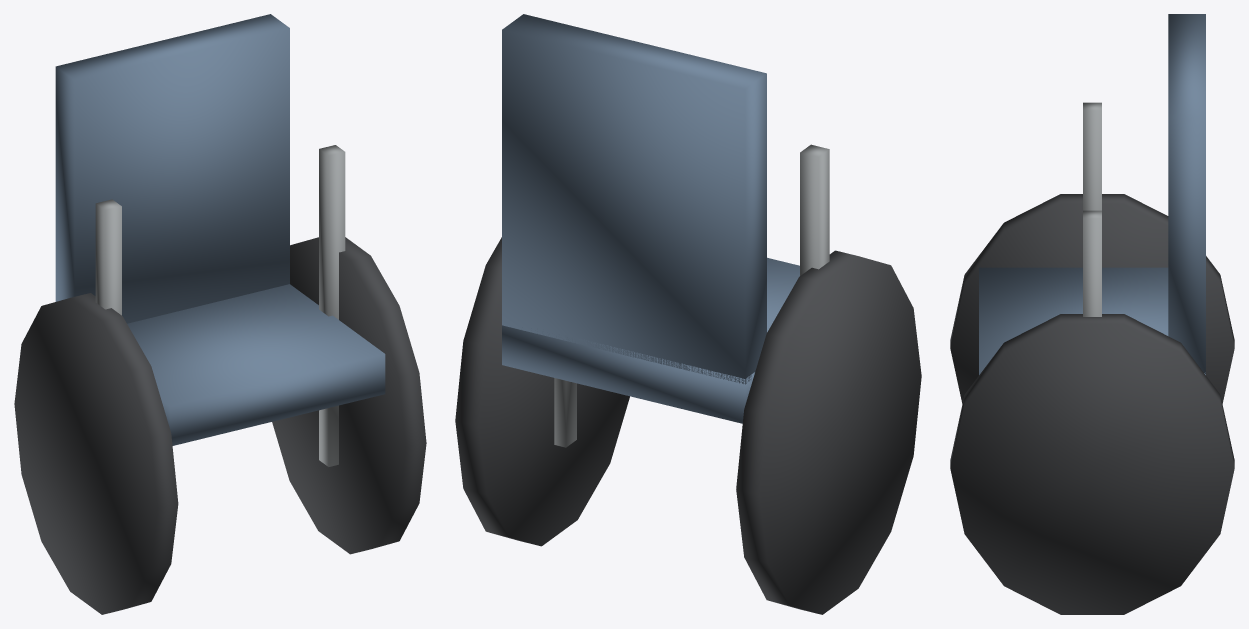
The model's file is wheelchair__tall.glb.
3 renders of one model, left to right at view 1: azimuth 30°, elevation 25°; view 2: azimuth 150°, elevation 25°; view 3: azimuth 270°, elevation 25°, orthographic. The views are drawn at different scales.
Visible parts, largest first — view 1: world; view 2: world; view 3: world.
Part boxes in pixels (bbox=[...]): world: bbox=[14, 14, 426, 614]; world: bbox=[455, 14, 921, 614]; world: bbox=[950, 14, 1234, 614].
Bounding box in the file's own units: 0.65 × 1.13 × 0.6.
